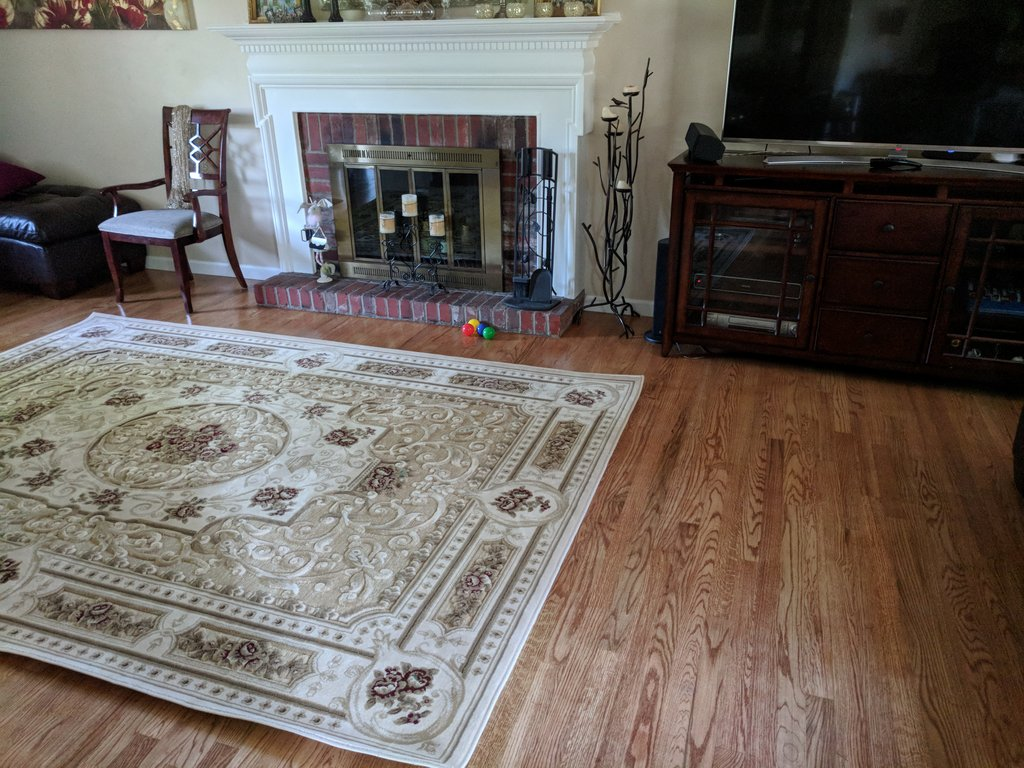ball: (468, 319, 480, 330)
